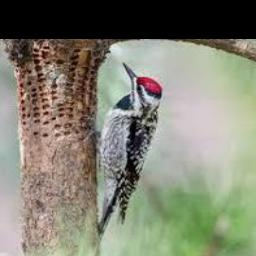Woodpecker: (95, 61, 161, 238)
